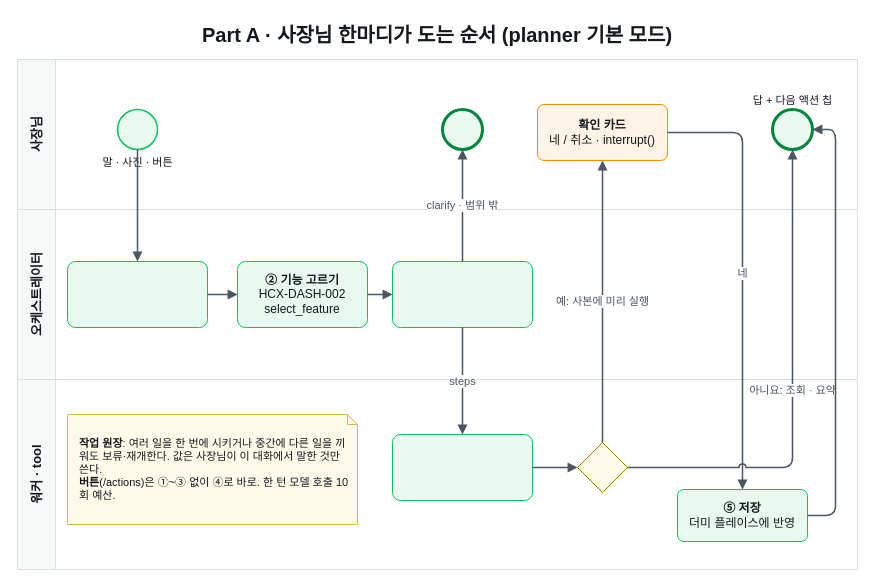
This 875x587 diagram has some shape labels left out. The centre of each missing label's shape, as x and y in pixels:
"① 후보 고르기 키워드 30% + 임베딩 70% 상위 5개" goes at point 137,294.
"③ 계획 HCX-007 · 작업 원장 읽기 scope · steps · clarify" goes at point 462,294.
"④ 단계마다 실행 HCX-007 · 그 기능 도구만 리뷰는 서브에이전트" goes at point 462,467.
"되묻기 · 안내로 끝" goes at point 462,129.
"쓰기 작업?" goes at point 602,467.
